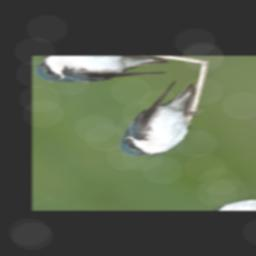Swallow: (82, 76, 239, 166)
